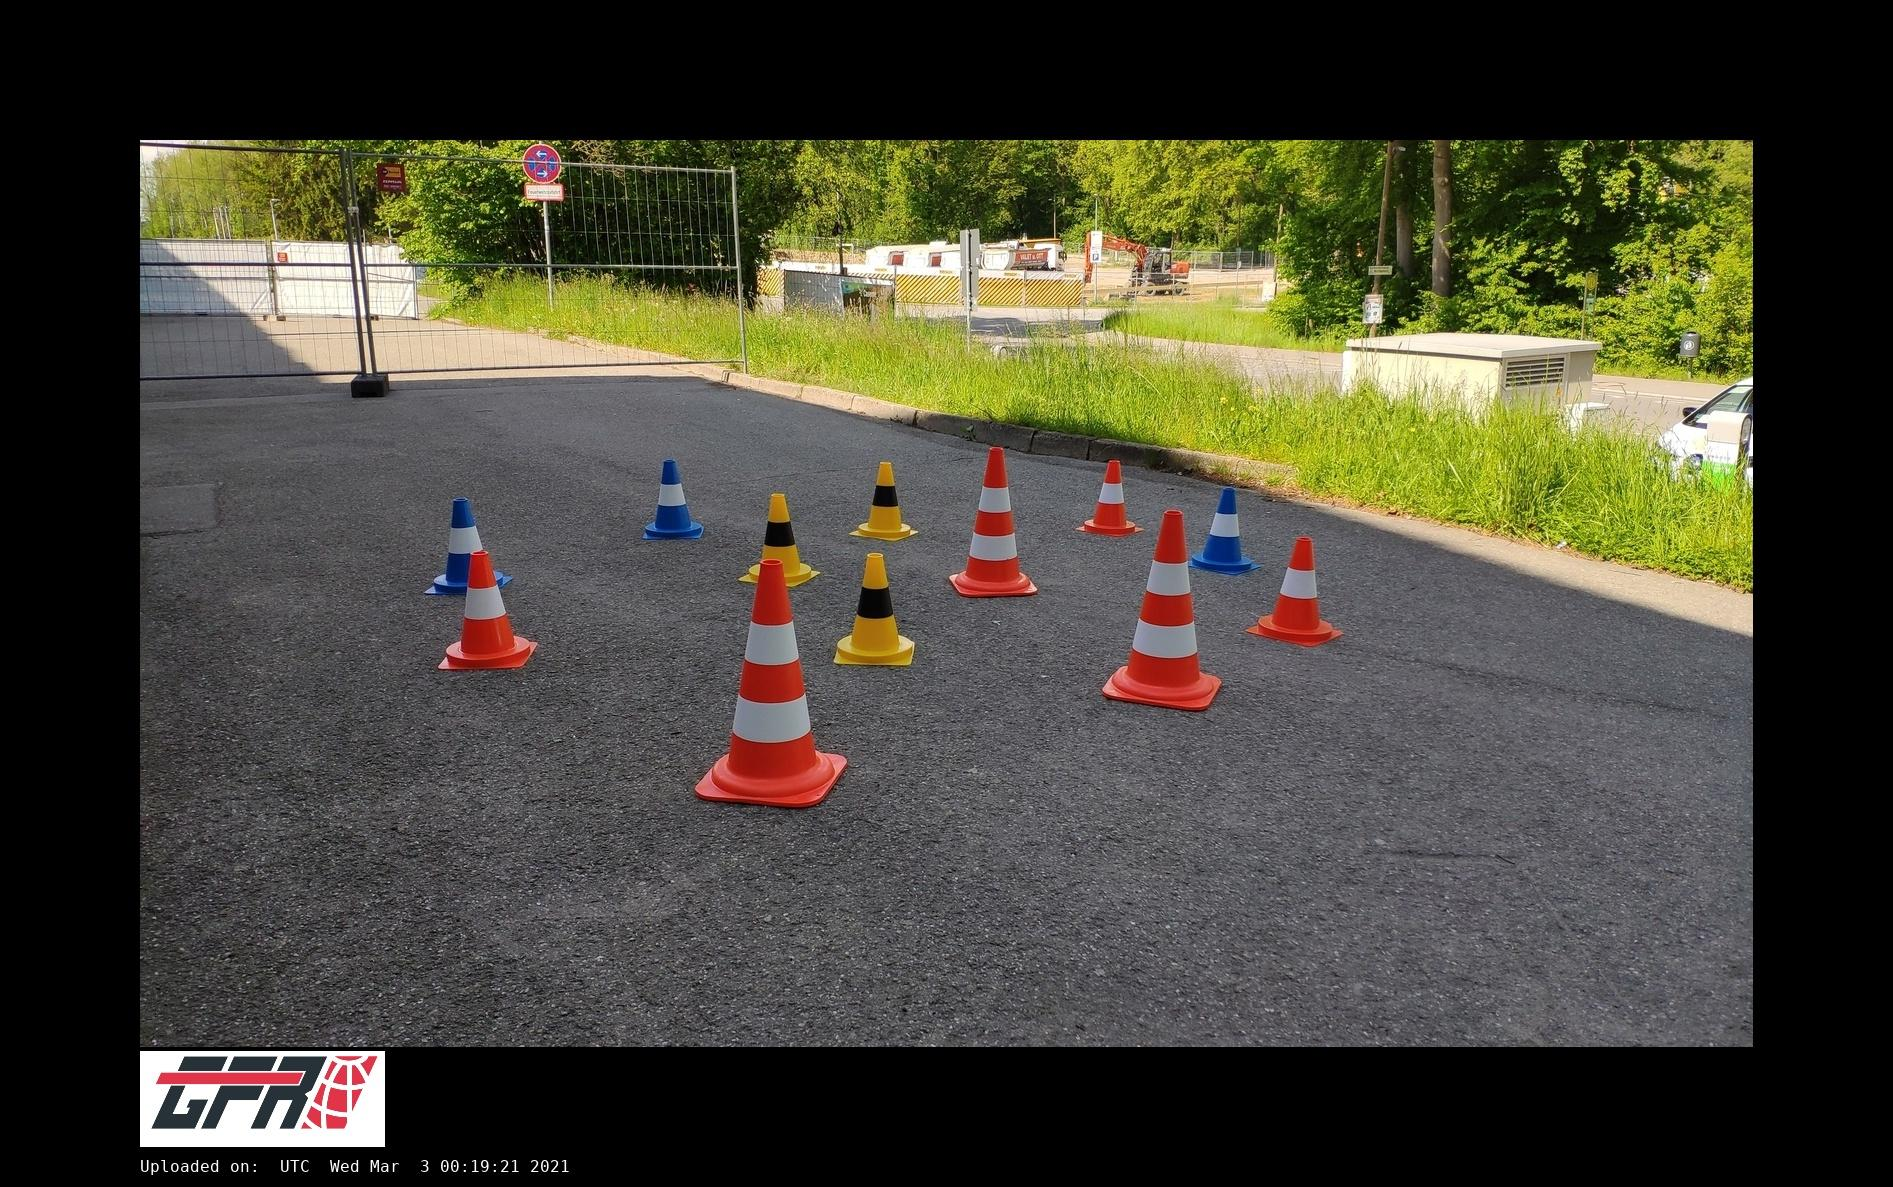blue_cone: (426, 496, 513, 593), (1189, 487, 1262, 574), (642, 459, 704, 539)
large_orange_cone: (694, 559, 846, 805), (1102, 509, 1221, 711), (949, 449, 1036, 595)
orange_cone: (439, 551, 537, 669), (1247, 537, 1344, 645), (1076, 459, 1144, 536)
yellow_cone: (835, 552, 914, 665), (739, 494, 821, 587), (849, 462, 918, 540)
